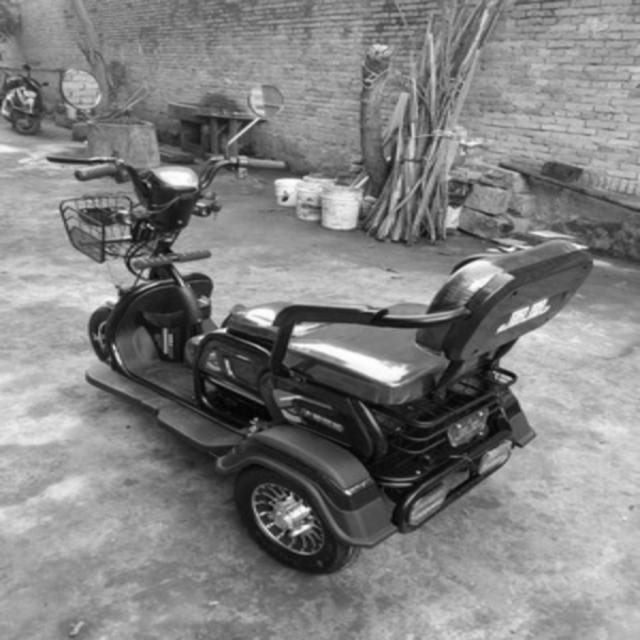motorbike: (2, 61, 47, 134)
tricycle: (43, 67, 591, 573)
